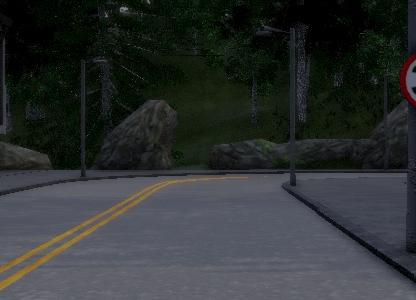Speed_30: (399, 48, 416, 115)
